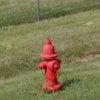Hydrant: (33, 32, 62, 95)
